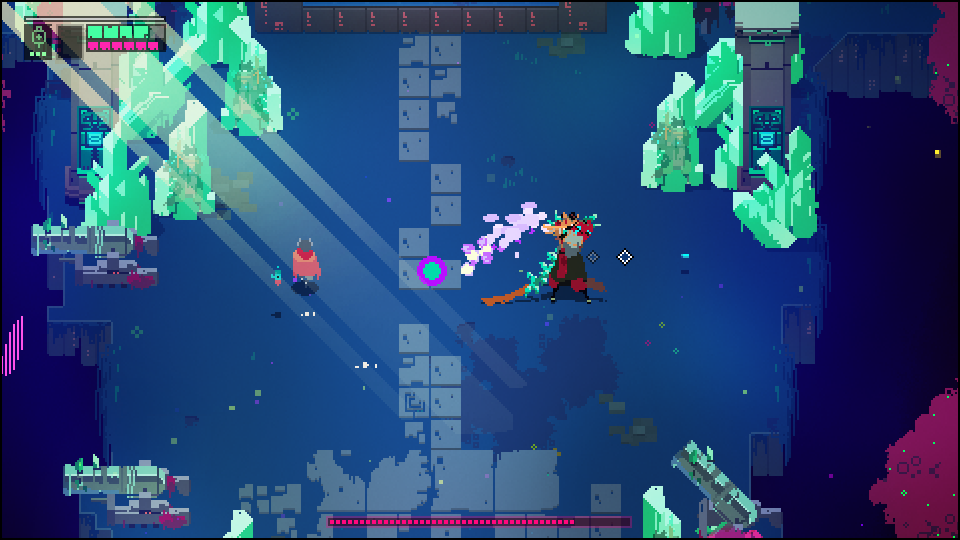hanged_man: (518, 206, 610, 314)
hanged_shot: (417, 256, 447, 288)
player: (291, 236, 323, 291)
